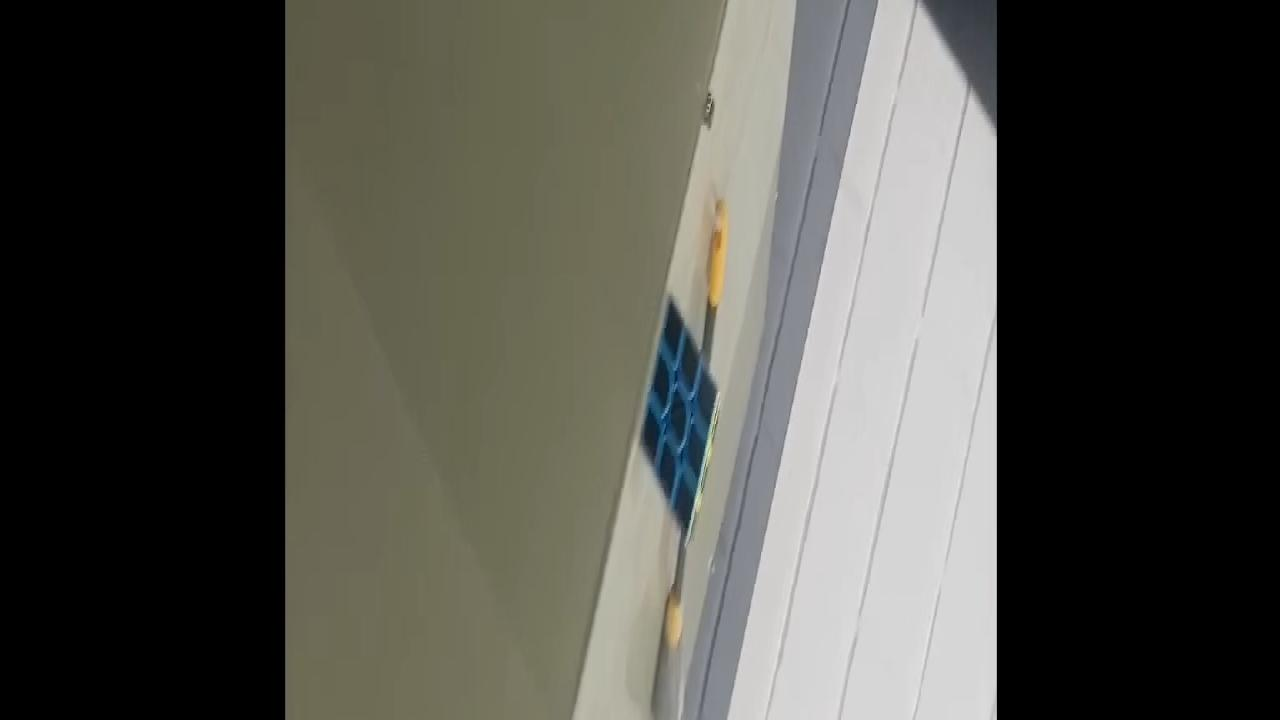Cube: (638, 291, 722, 541)
